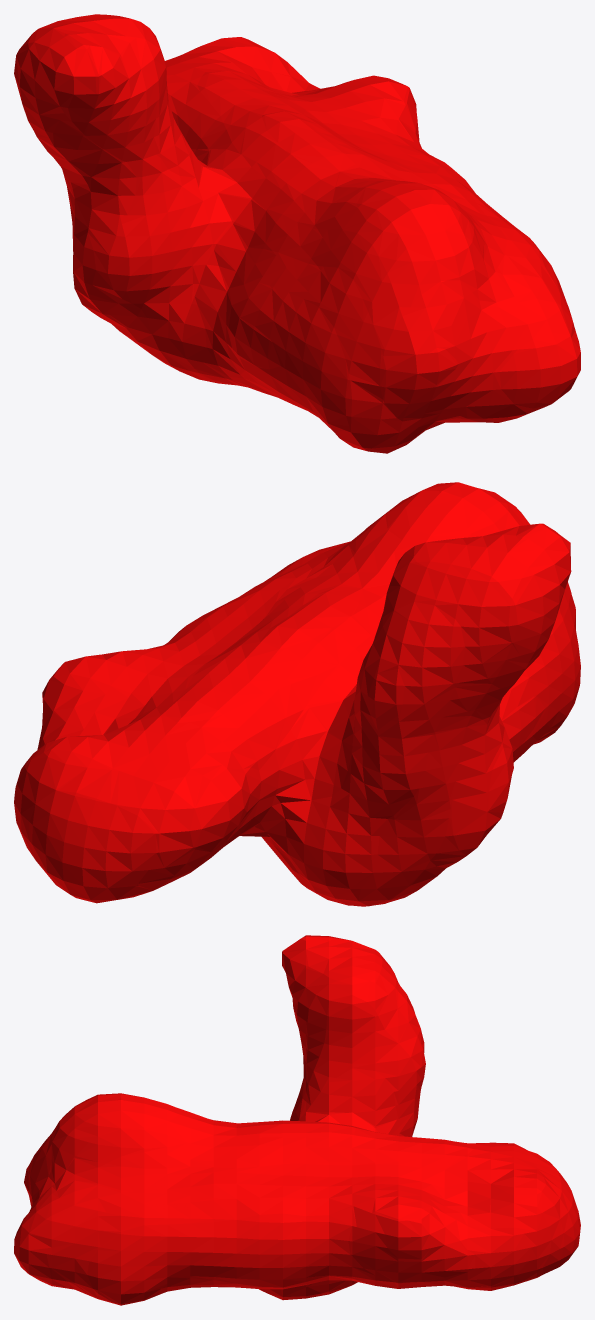
Rendered from dgkA_coarse.dae.
3 renders of one model, top to bottom at view 1: azimuth 30°, elevation 25°; view 2: azimuth 150°, elevation 25°; view 3: azimuth 270°, elevation 25°, orthographic. The views are drawn at different scales.
Parts seen in each view (by area): view 1: dgkA; view 2: dgkA; view 3: dgkA.
Part boxes in pixels (left/top/right/bottom): dgkA: left=14, top=14, right=580, bottom=453; dgkA: left=14, top=482, right=580, bottom=906; dgkA: left=14, top=935, right=580, bottom=1305.
Bounding box in the file's own units: 42.89 × 36.25 × 64.11.
